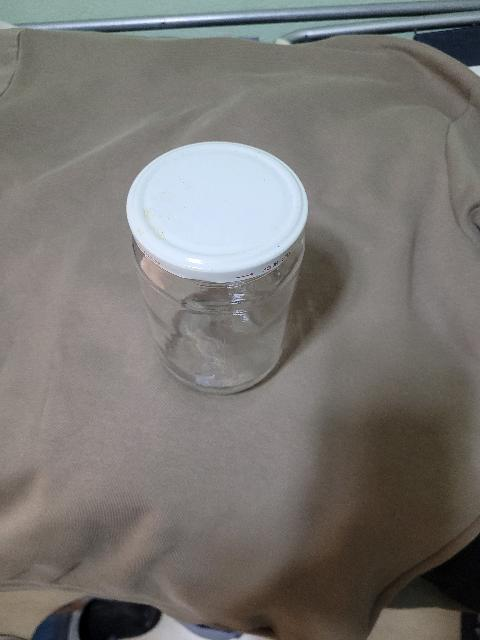Cam: (130, 233, 310, 400)
Metal: (127, 138, 315, 284)
